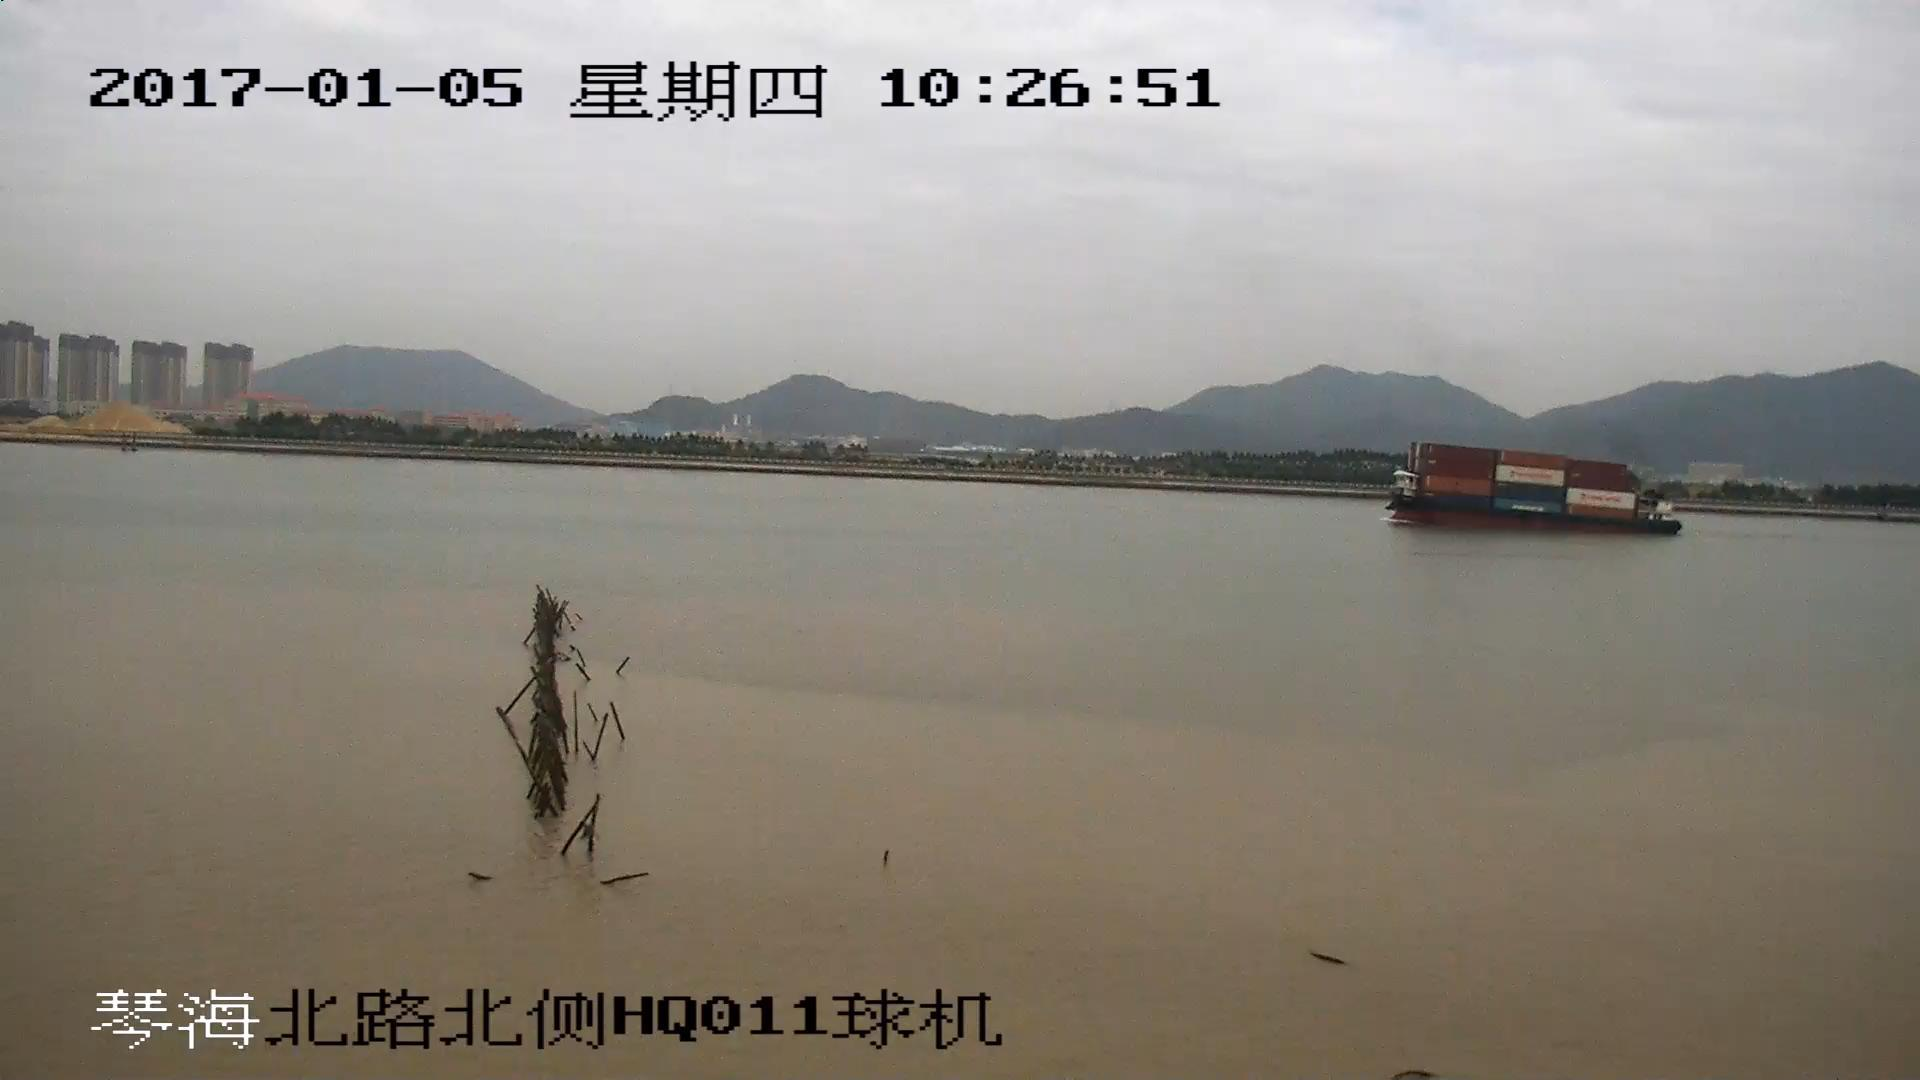Ship: (1391, 446, 1684, 538)
